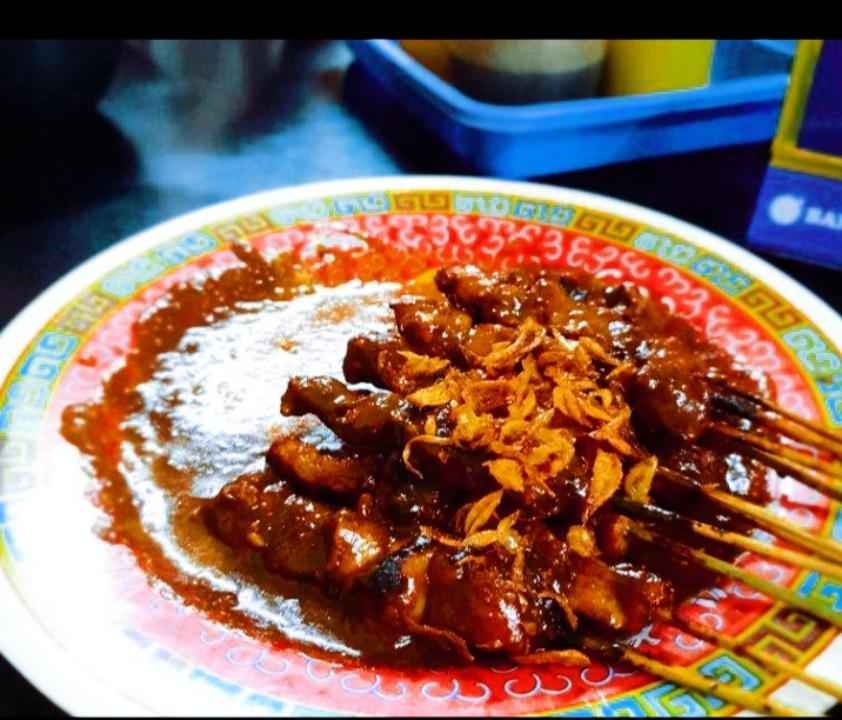sate_madura: (217, 263, 842, 715)
